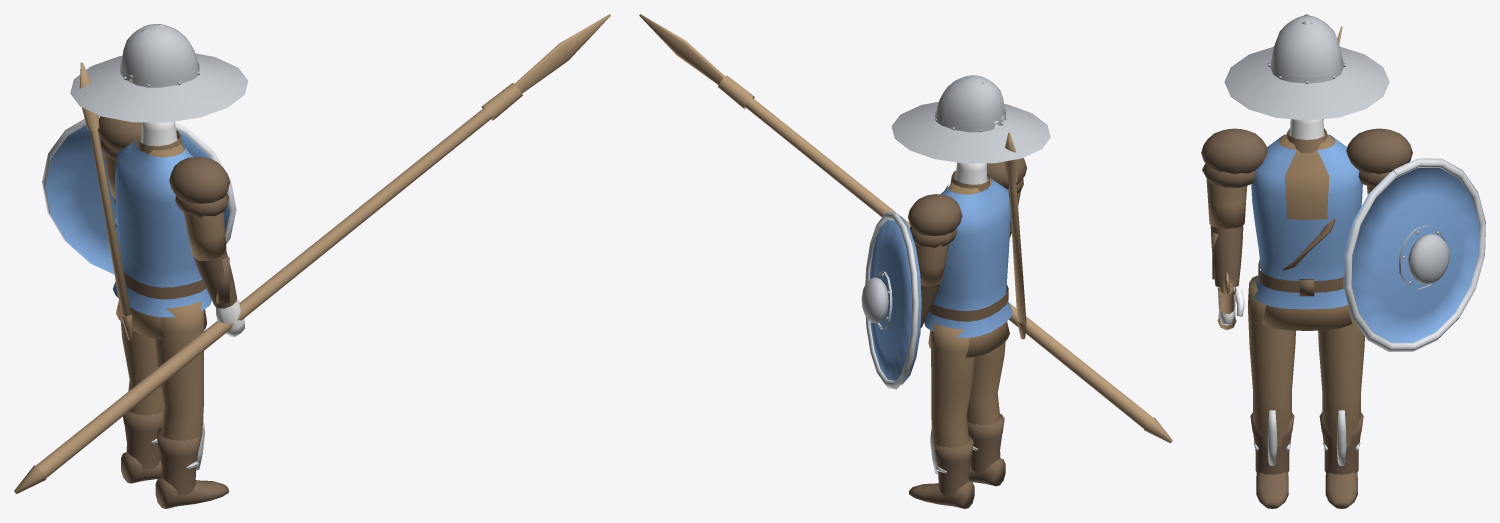
Rendered from spearman.glb.
The picture shows the model from 3 angles, left to right: view 1: azimuth 30°, elevation 25°; view 2: azimuth 150°, elevation 25°; view 3: azimuth 270°, elevation 25°; orthographic projection. The views are drawn at different scales.
Parts seen in each view (by area): view 1: Helmet_Kettle, Weapon, Vest_Team, Shield, Leg_R, Boot_R, Pauldron_R, Javelin_Back, Boot_L, Leg_L, Arm_R, Bracer_R (+5 smaller); view 2: Helmet_Kettle, Vest_Team, Weapon, Shield, Leg_L, Boot_L, Pauldron_L, Shield_Rim, Leg_R, Boot_R, Javelin_Back, Shield_Boss (+5 smaller); view 3: Shield, Vest_Team, Helmet_Kettle, Leg_R, Torso, Leg_L, Shield_Rim, Pauldron_R, Pauldron_L, Boot_L, Boot_R, Shield_Boss (+9 smaller).
Boxes of the visible parts, x1=… form: Helmet_Kettle: x1=70, y1=24, x2=248, y2=122; Weapon: x1=14, y1=14, x2=610, y2=493; Vest_Team: x1=113, y1=138, x2=211, y2=317; Shield: x1=45, y1=125, x2=230, y2=274; Leg_R: x1=155, y1=301, x2=204, y2=451; Boot_R: x1=155, y1=427, x2=228, y2=508; Pauldron_R: x1=169, y1=156, x2=230, y2=217; Javelin_Back: x1=79, y1=62, x2=133, y2=340; Boot_L: x1=121, y1=411, x2=163, y2=483; Leg_L: x1=120, y1=321, x2=164, y2=415; Arm_R: x1=183, y1=202, x2=226, y2=259; Bracer_R: x1=193, y1=250, x2=236, y2=308; Helmet_Kettle: x1=891, y1=75, x2=1050, y2=163; Vest_Team: x1=924, y1=178, x2=1012, y2=337; Weapon: x1=639, y1=14, x2=1172, y2=442; Shield: x1=870, y1=216, x2=921, y2=384; Leg_L: x1=931, y1=323, x2=975, y2=457; Boot_L: x1=909, y1=436, x2=974, y2=508; Pauldron_L: x1=908, y1=194, x2=962, y2=248; Shield_Rim: x1=865, y1=211, x2=919, y2=389; Leg_R: x1=966, y1=321, x2=1007, y2=425; Boot_R: x1=967, y1=413, x2=1005, y2=486; Javelin_Back: x1=1004, y1=132, x2=1026, y2=339; Shield_Boss: x1=861, y1=271, x2=892, y2=329; Shield: x1=1343, y1=168, x2=1479, y2=342; Vest_Team: x1=1251, y1=134, x2=1362, y2=309; Helmet_Kettle: x1=1224, y1=14, x2=1389, y2=120; Leg_R: x1=1248, y1=275, x2=1295, y2=447; Torso: x1=1262, y1=132, x2=1352, y2=330; Leg_L: x1=1318, y1=305, x2=1364, y2=447; Shield_Rim: x1=1344, y1=158, x2=1485, y2=351; Pauldron_R: x1=1201, y1=128, x2=1267, y2=188; Pauldron_L: x1=1346, y1=128, x2=1412, y2=187; Boot_L: x1=1319, y1=412, x2=1363, y2=508; Boot_R: x1=1250, y1=412, x2=1294, y2=508; Shield_Boss: x1=1398, y1=225, x2=1449, y2=289.
Bounding box in the file's own units: 1.59 × 1.19 × 0.6584.
